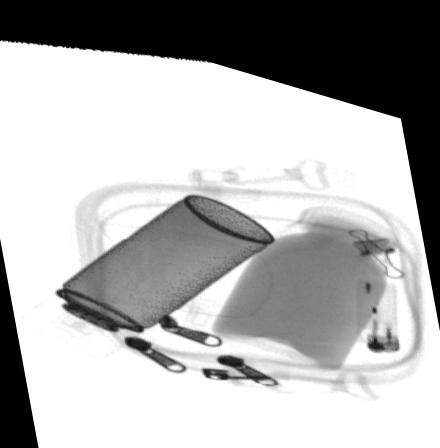Lighter: (353, 259, 399, 332)
Sprayer: (18, 183, 272, 351)
